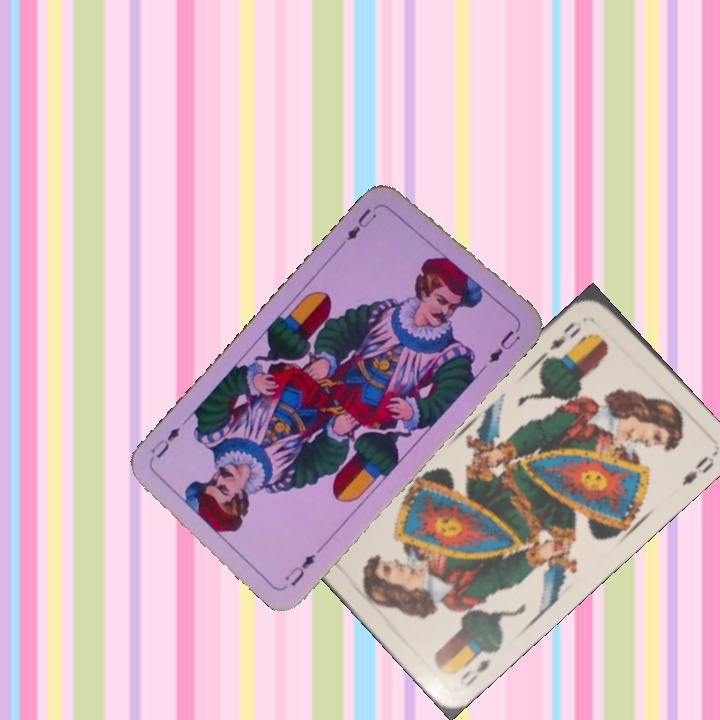EO: (545, 316, 584, 353), (456, 655, 493, 690)
EU: (337, 202, 382, 248), (280, 549, 319, 589)
